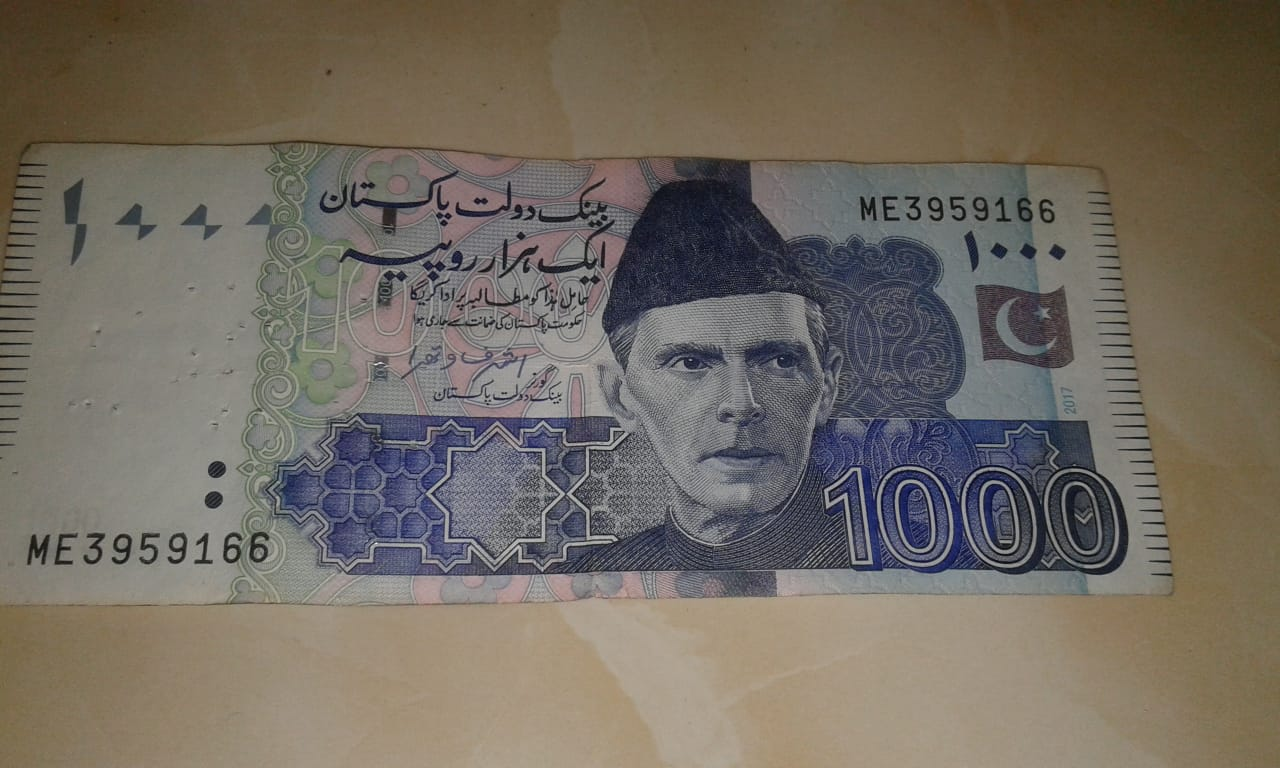1000 rupee: (13, 103, 1186, 631)
